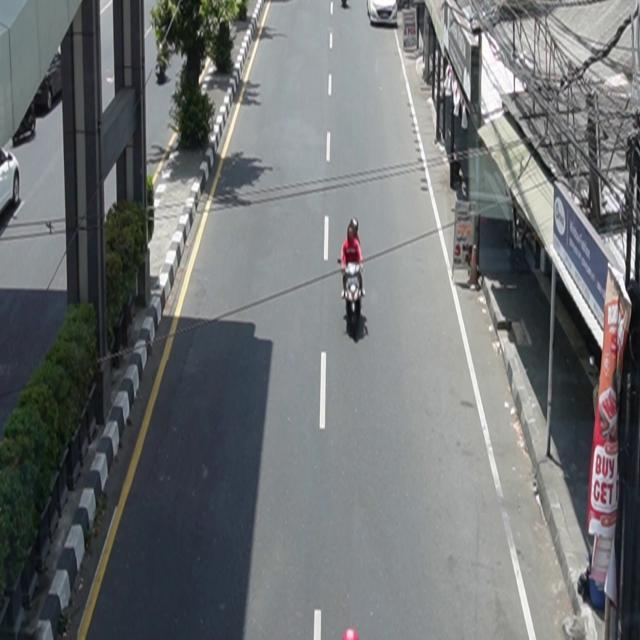car: (1, 147, 21, 217), (367, 1, 398, 26)
